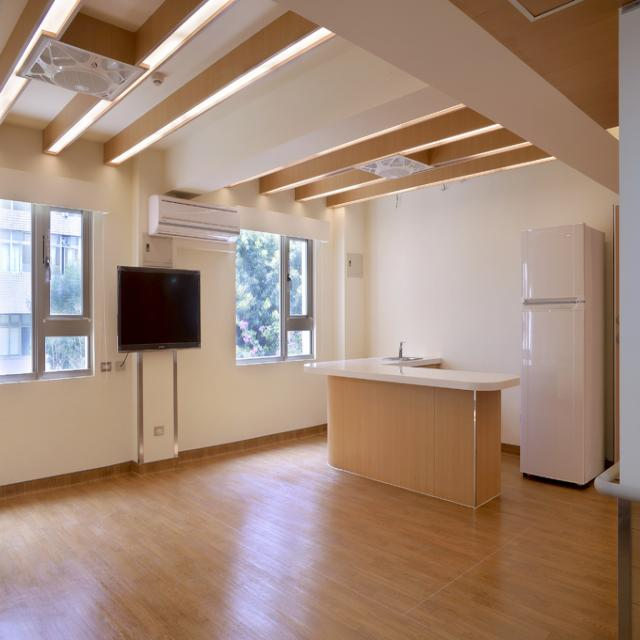desk: (308, 339, 522, 518)
tv: (117, 266, 201, 351)
